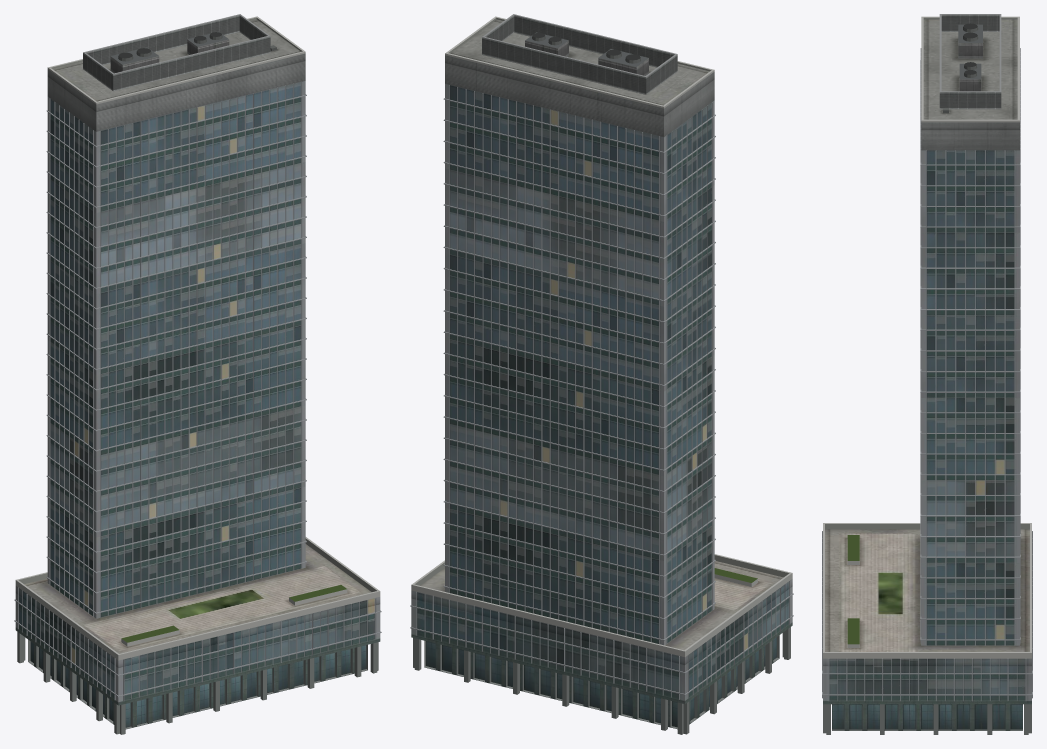
Rendered from nyc_glassslab_b.glb.
3 renders of one model, left to right at view 1: azimuth 30°, elevation 25°; view 2: azimuth 150°, elevation 25°; view 3: azimuth 270°, elevation 25°, orthographic. The views are drawn at different scales.
Parts seen in each view (by area): view 1: nyc_glassslab_b; view 2: nyc_glassslab_b; view 3: nyc_glassslab_b.
Boxes of the visible parts, x1,y1,x2,y2 form: nyc_glassslab_b: (14, 14, 381, 734); nyc_glassslab_b: (410, 14, 793, 734); nyc_glassslab_b: (822, 14, 1032, 734).
Bounding box in the file's own units: 50.27 × 111 × 34.28.
Materials: 1 (1 with a texture image).
